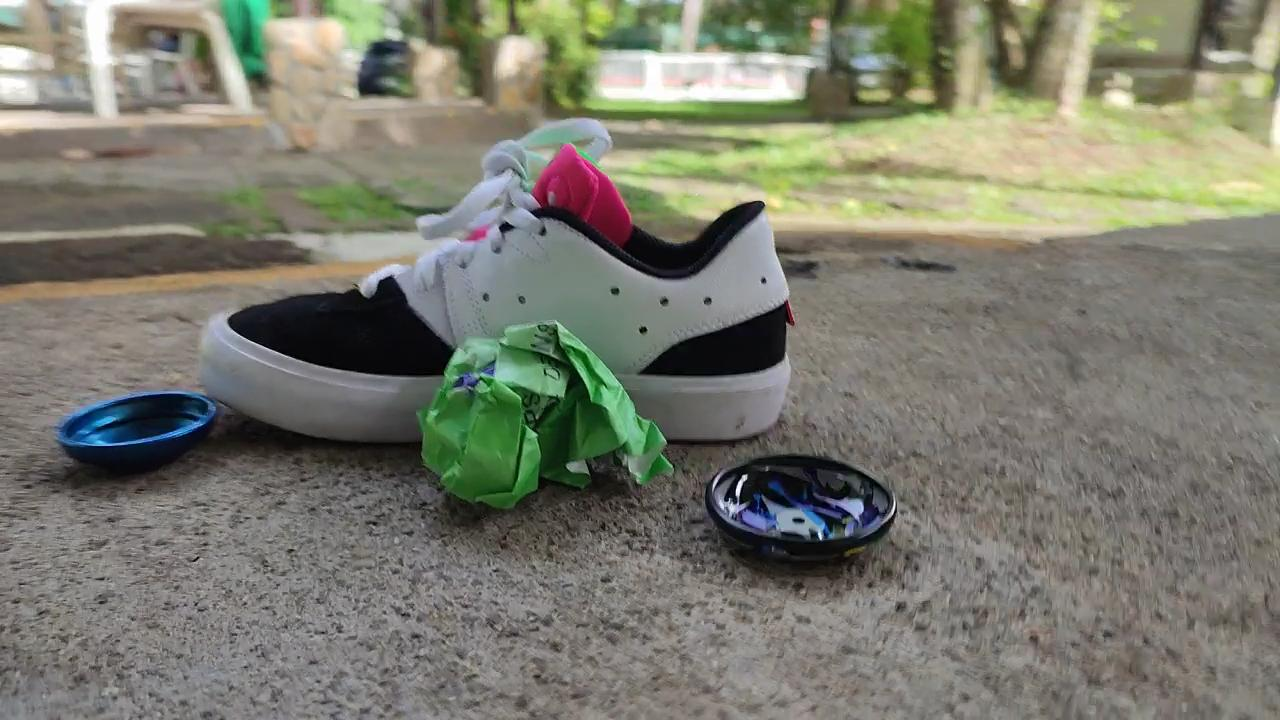Paper: (406, 304, 680, 524)
